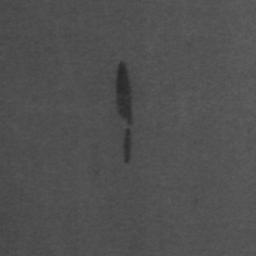Iron scale compression: (116, 61, 133, 125), (124, 134, 131, 163)
